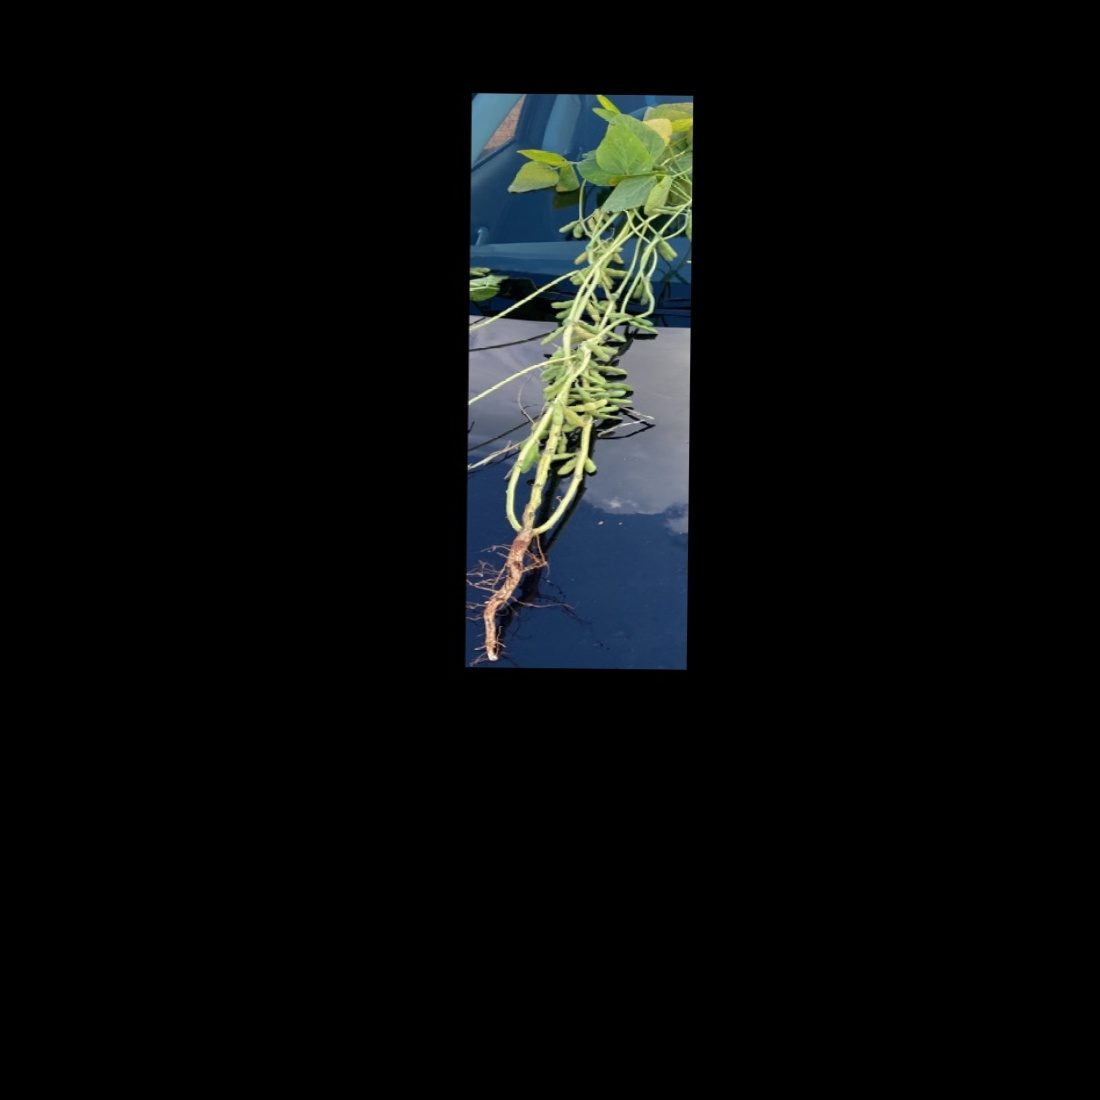pod: (564, 396, 608, 413), (554, 455, 582, 478), (535, 324, 564, 347), (657, 235, 680, 260), (587, 363, 629, 377), (589, 342, 615, 364), (582, 298, 603, 324), (558, 215, 582, 235), (568, 219, 585, 240), (602, 266, 633, 277)
soy: (466, 98, 687, 656)
